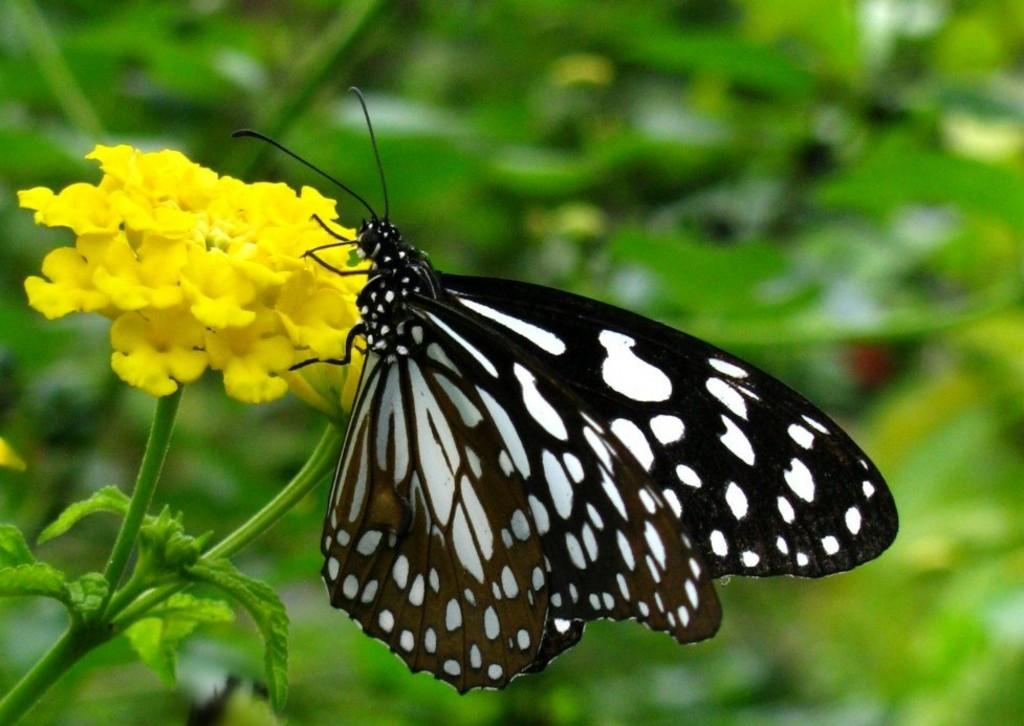Butterfly: (253, 113, 899, 714)
